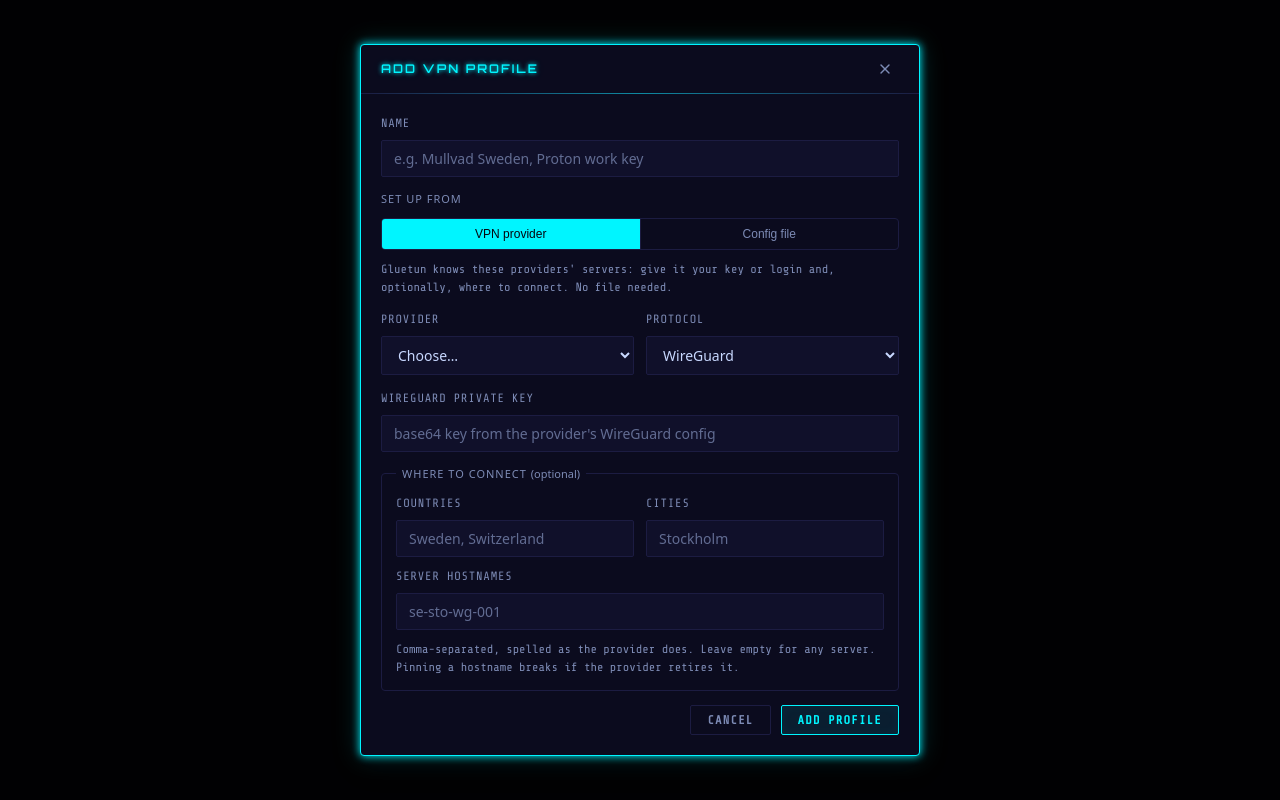
Scenario: VpnProfileModal › needs a file before saving a new config-file profile
Type "Office" into the field labelled "Name".
click(640, 158); type("Office")  # box [381,140,899,177]
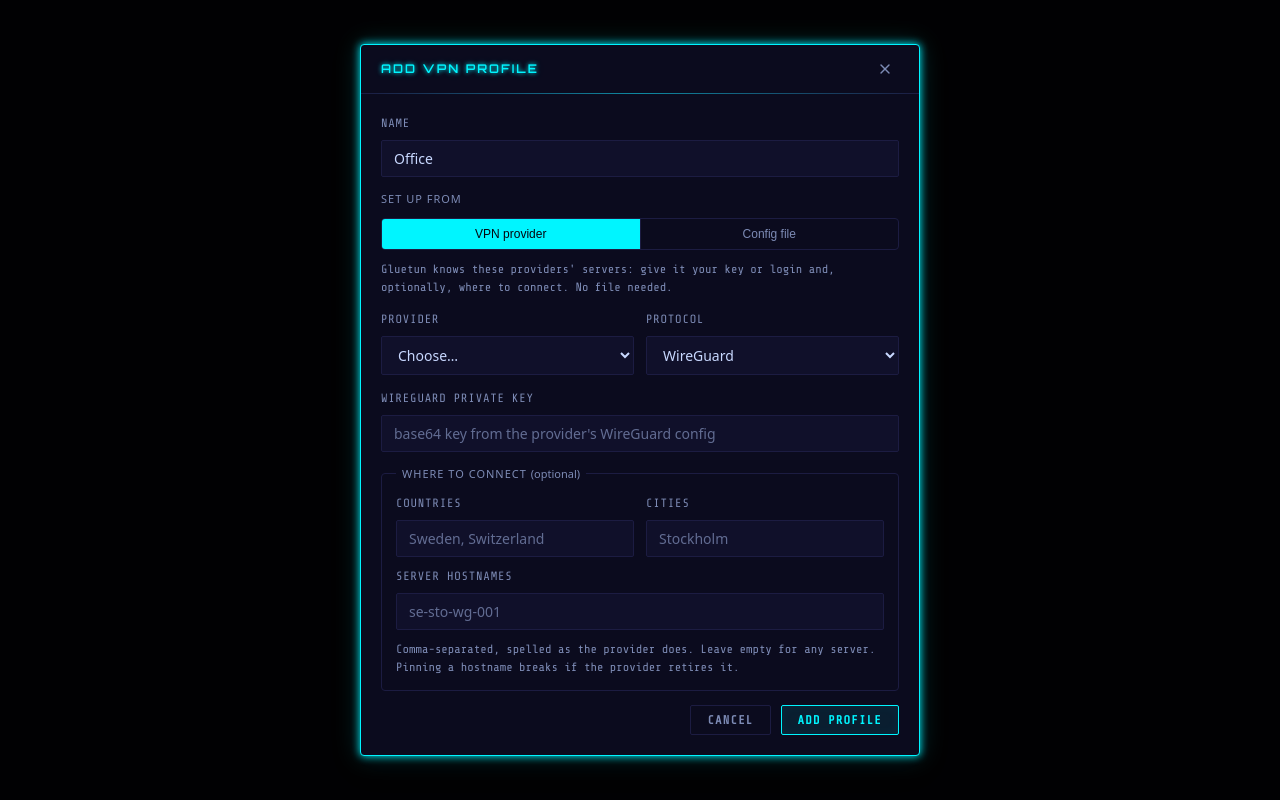
Click the radio button labelled "Config file".
click(769, 234)  # box [640,218,898,248]
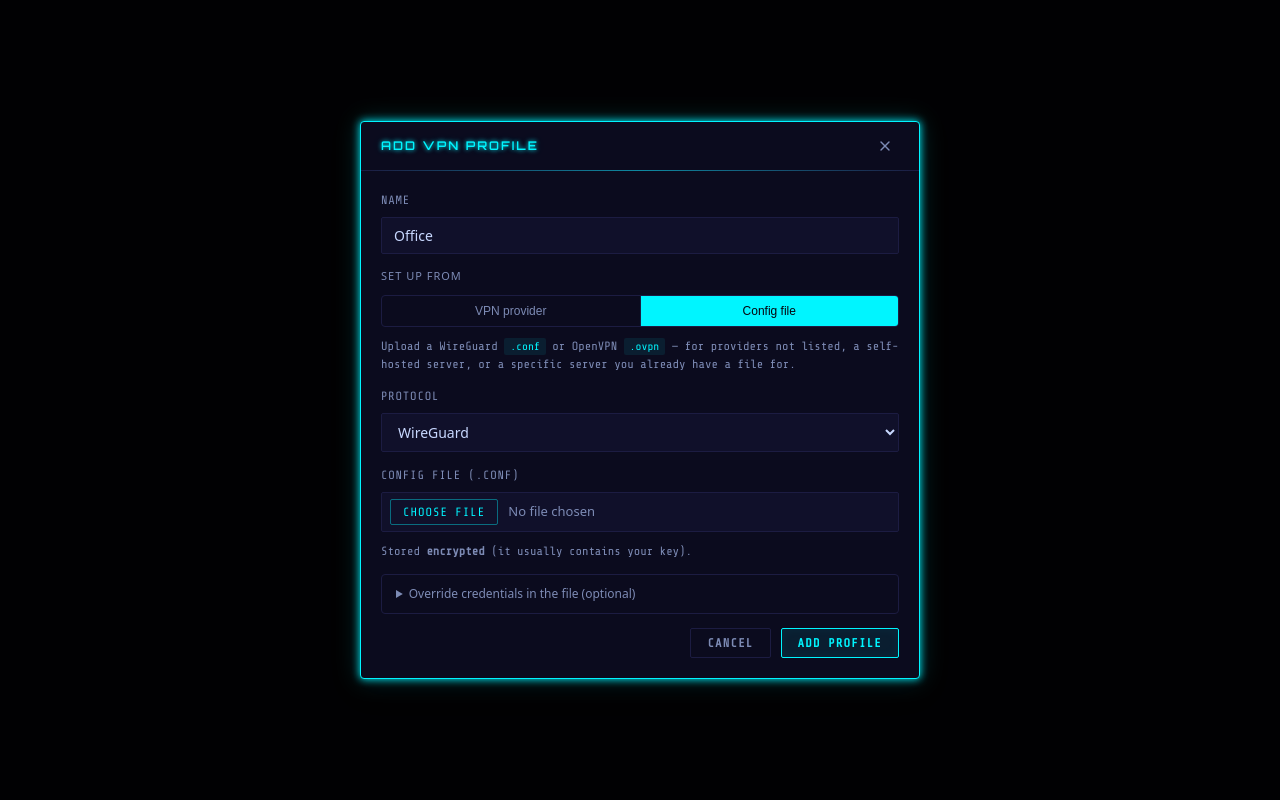
Submit the form, box [381,191,899,658]
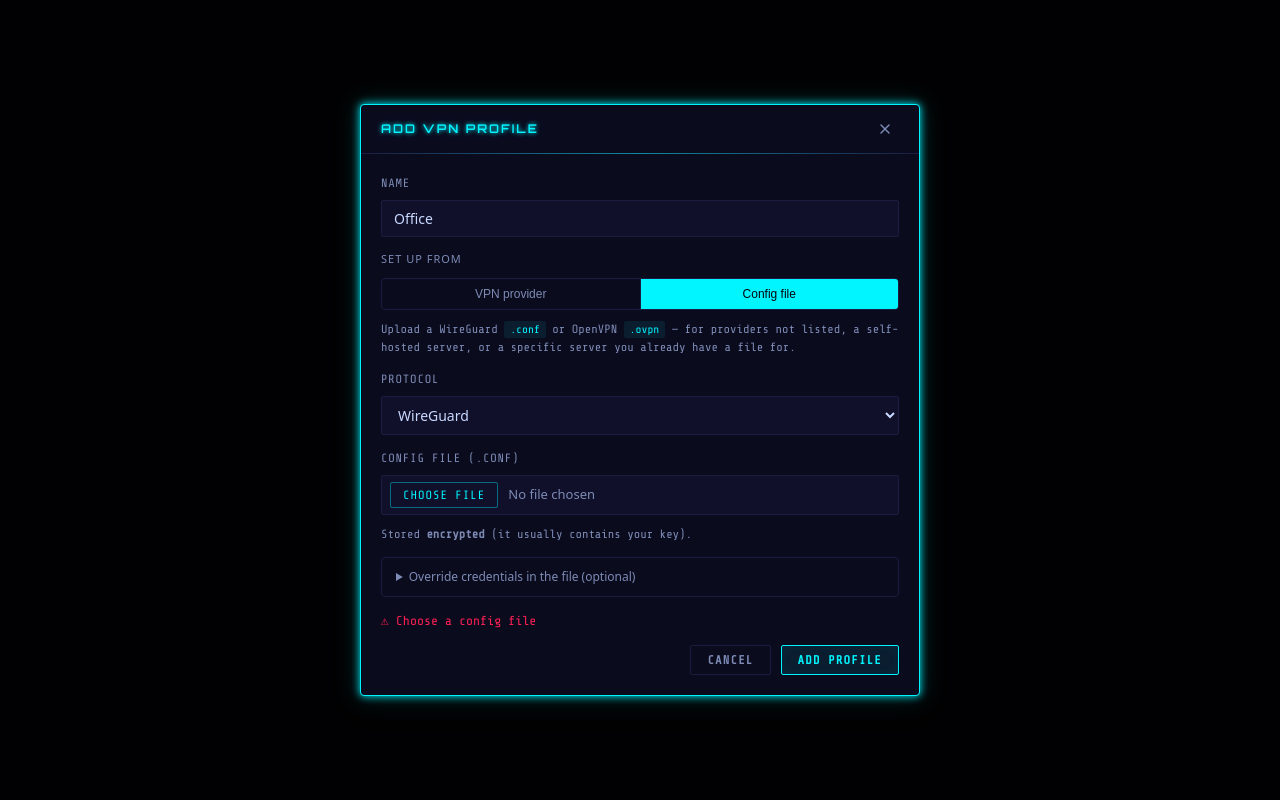
Check: the text "Choose a config file" is shown, box [381,613,536,628]
